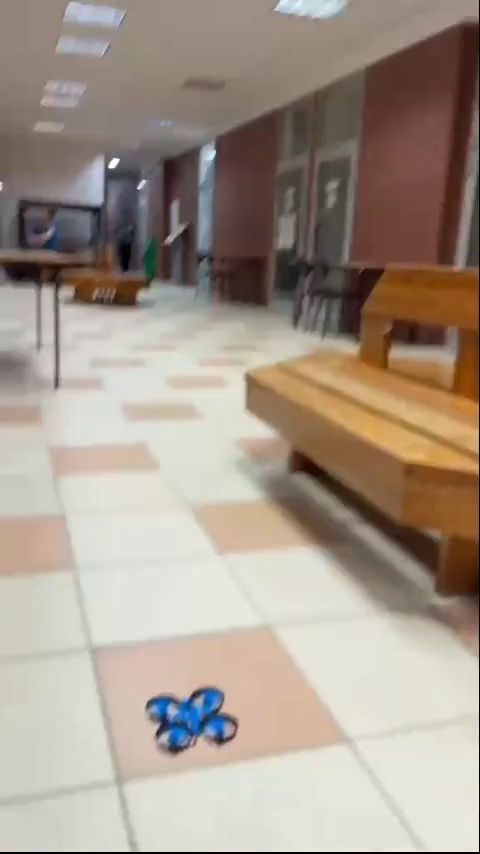drone: (147, 689, 236, 752)
no vest: (107, 198, 144, 280), (20, 198, 63, 262)
